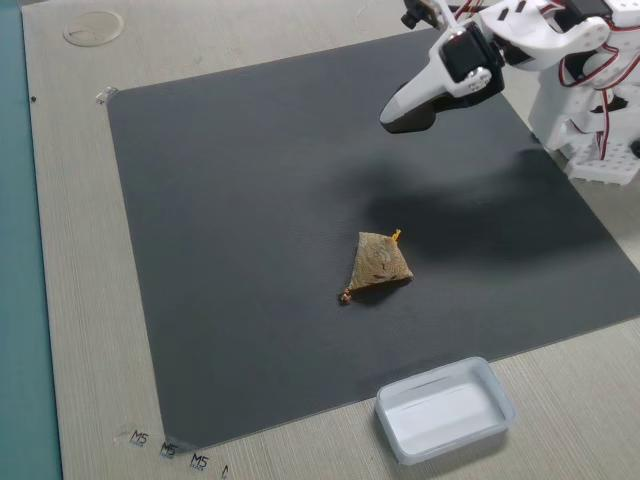objects: (377, 29, 511, 140)
